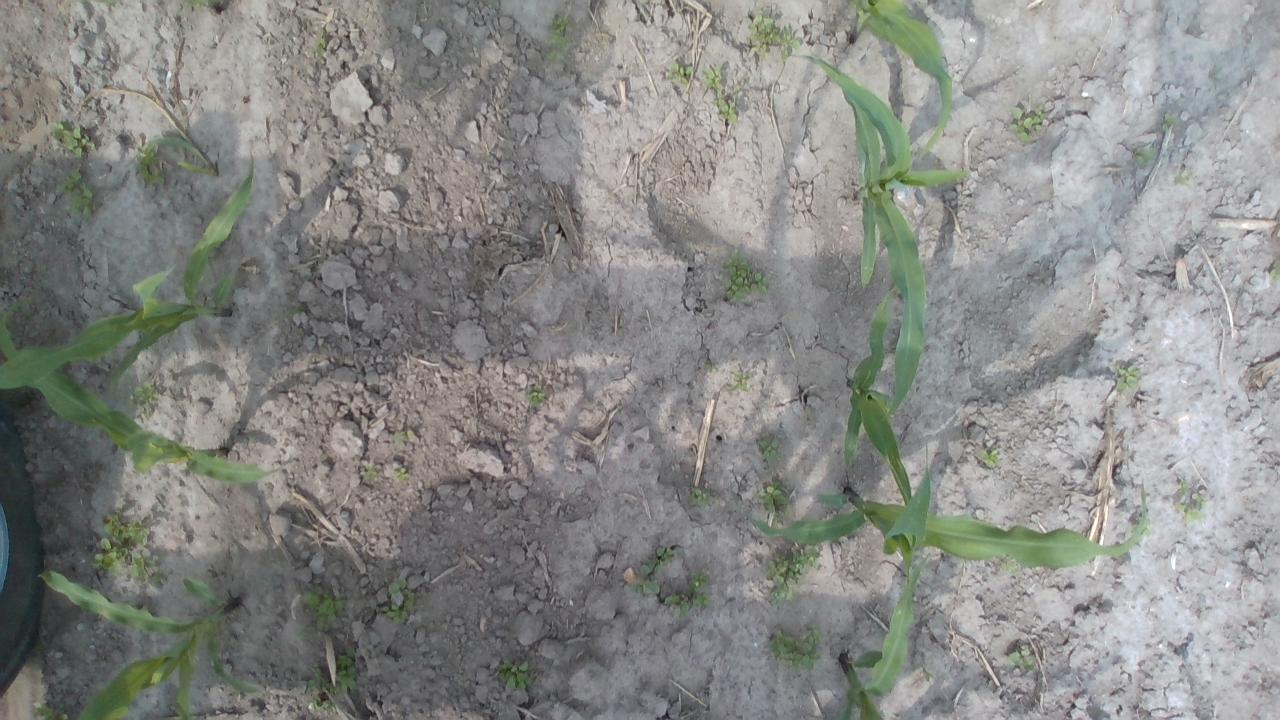Maize: (745, 478, 1154, 697), (786, 51, 971, 417), (0, 151, 255, 395), (0, 310, 278, 486), (35, 568, 264, 720), (841, 293, 918, 519), (849, 1, 954, 165), (831, 647, 894, 720)
Weeds: (94, 511, 169, 582), (642, 544, 712, 613), (769, 540, 818, 600), (307, 656, 358, 711), (720, 262, 770, 308), (769, 626, 823, 666), (301, 588, 342, 632), (749, 14, 794, 54), (56, 168, 92, 214), (44, 120, 88, 155), (705, 71, 737, 116), (379, 580, 415, 620), (759, 481, 791, 519), (134, 146, 164, 182), (1011, 108, 1044, 140), (546, 12, 570, 55), (1176, 480, 1202, 518), (497, 660, 528, 691), (128, 382, 156, 410), (1113, 364, 1140, 391), (668, 63, 692, 82), (1008, 654, 1039, 668), (758, 439, 776, 458), (34, 703, 53, 720), (1136, 146, 1153, 164), (690, 487, 706, 504), (980, 449, 1000, 462), (1178, 168, 1192, 185), (394, 430, 412, 442), (528, 389, 542, 403), (1164, 114, 1177, 127), (361, 466, 373, 480), (393, 470, 407, 482), (1270, 262, 1280, 276), (318, 41, 328, 52)
